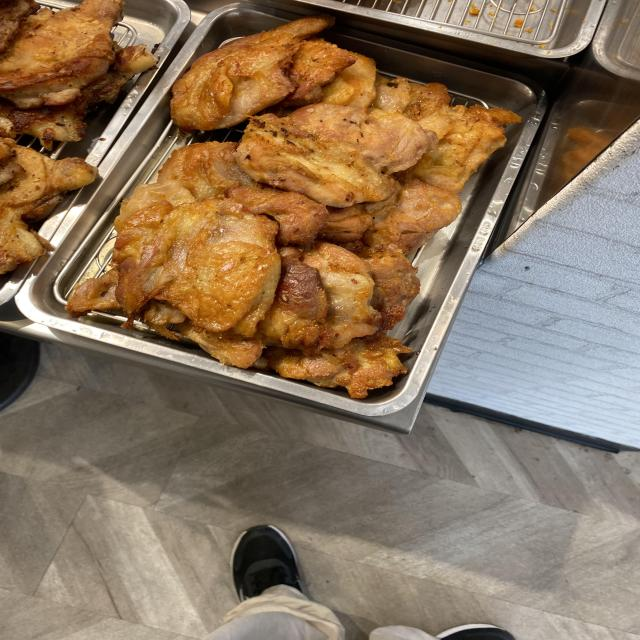Chicken Leg Steak: (167, 114, 397, 309)
